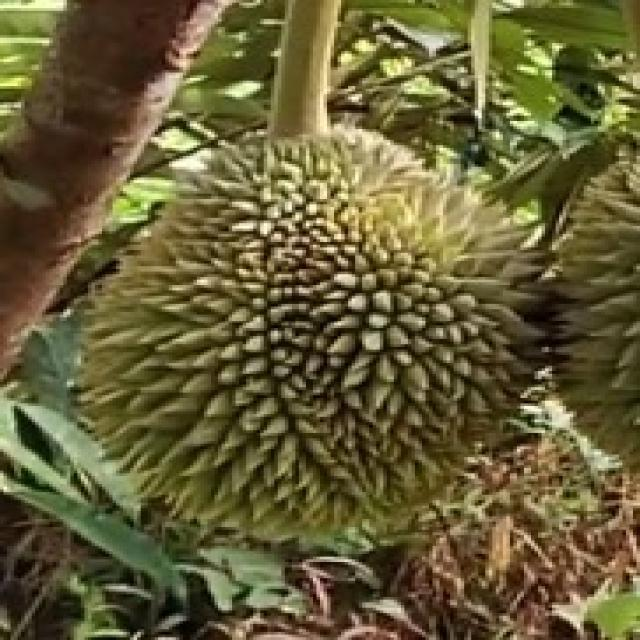immature: (73, 122, 554, 552)
